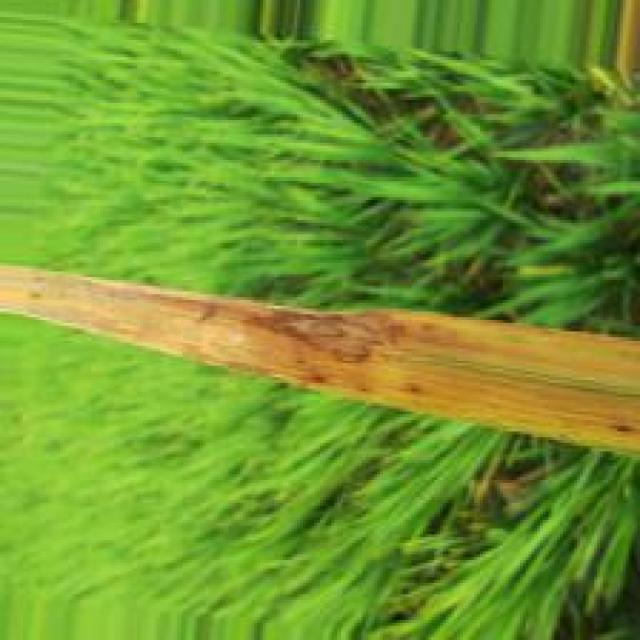Bacterial_Leaf_Blight: (1, 255, 640, 450)
